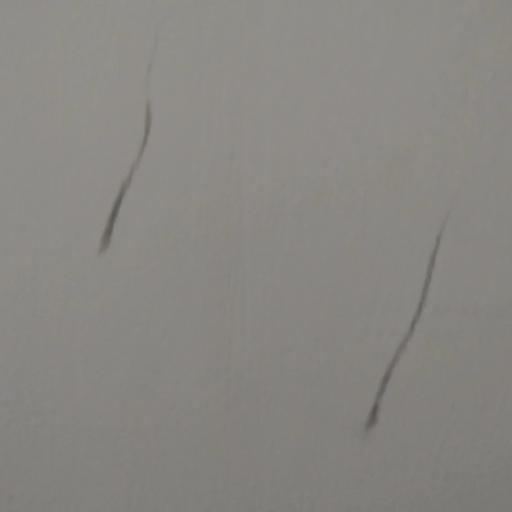stain: (340, 169, 471, 451), (69, 12, 198, 279)
